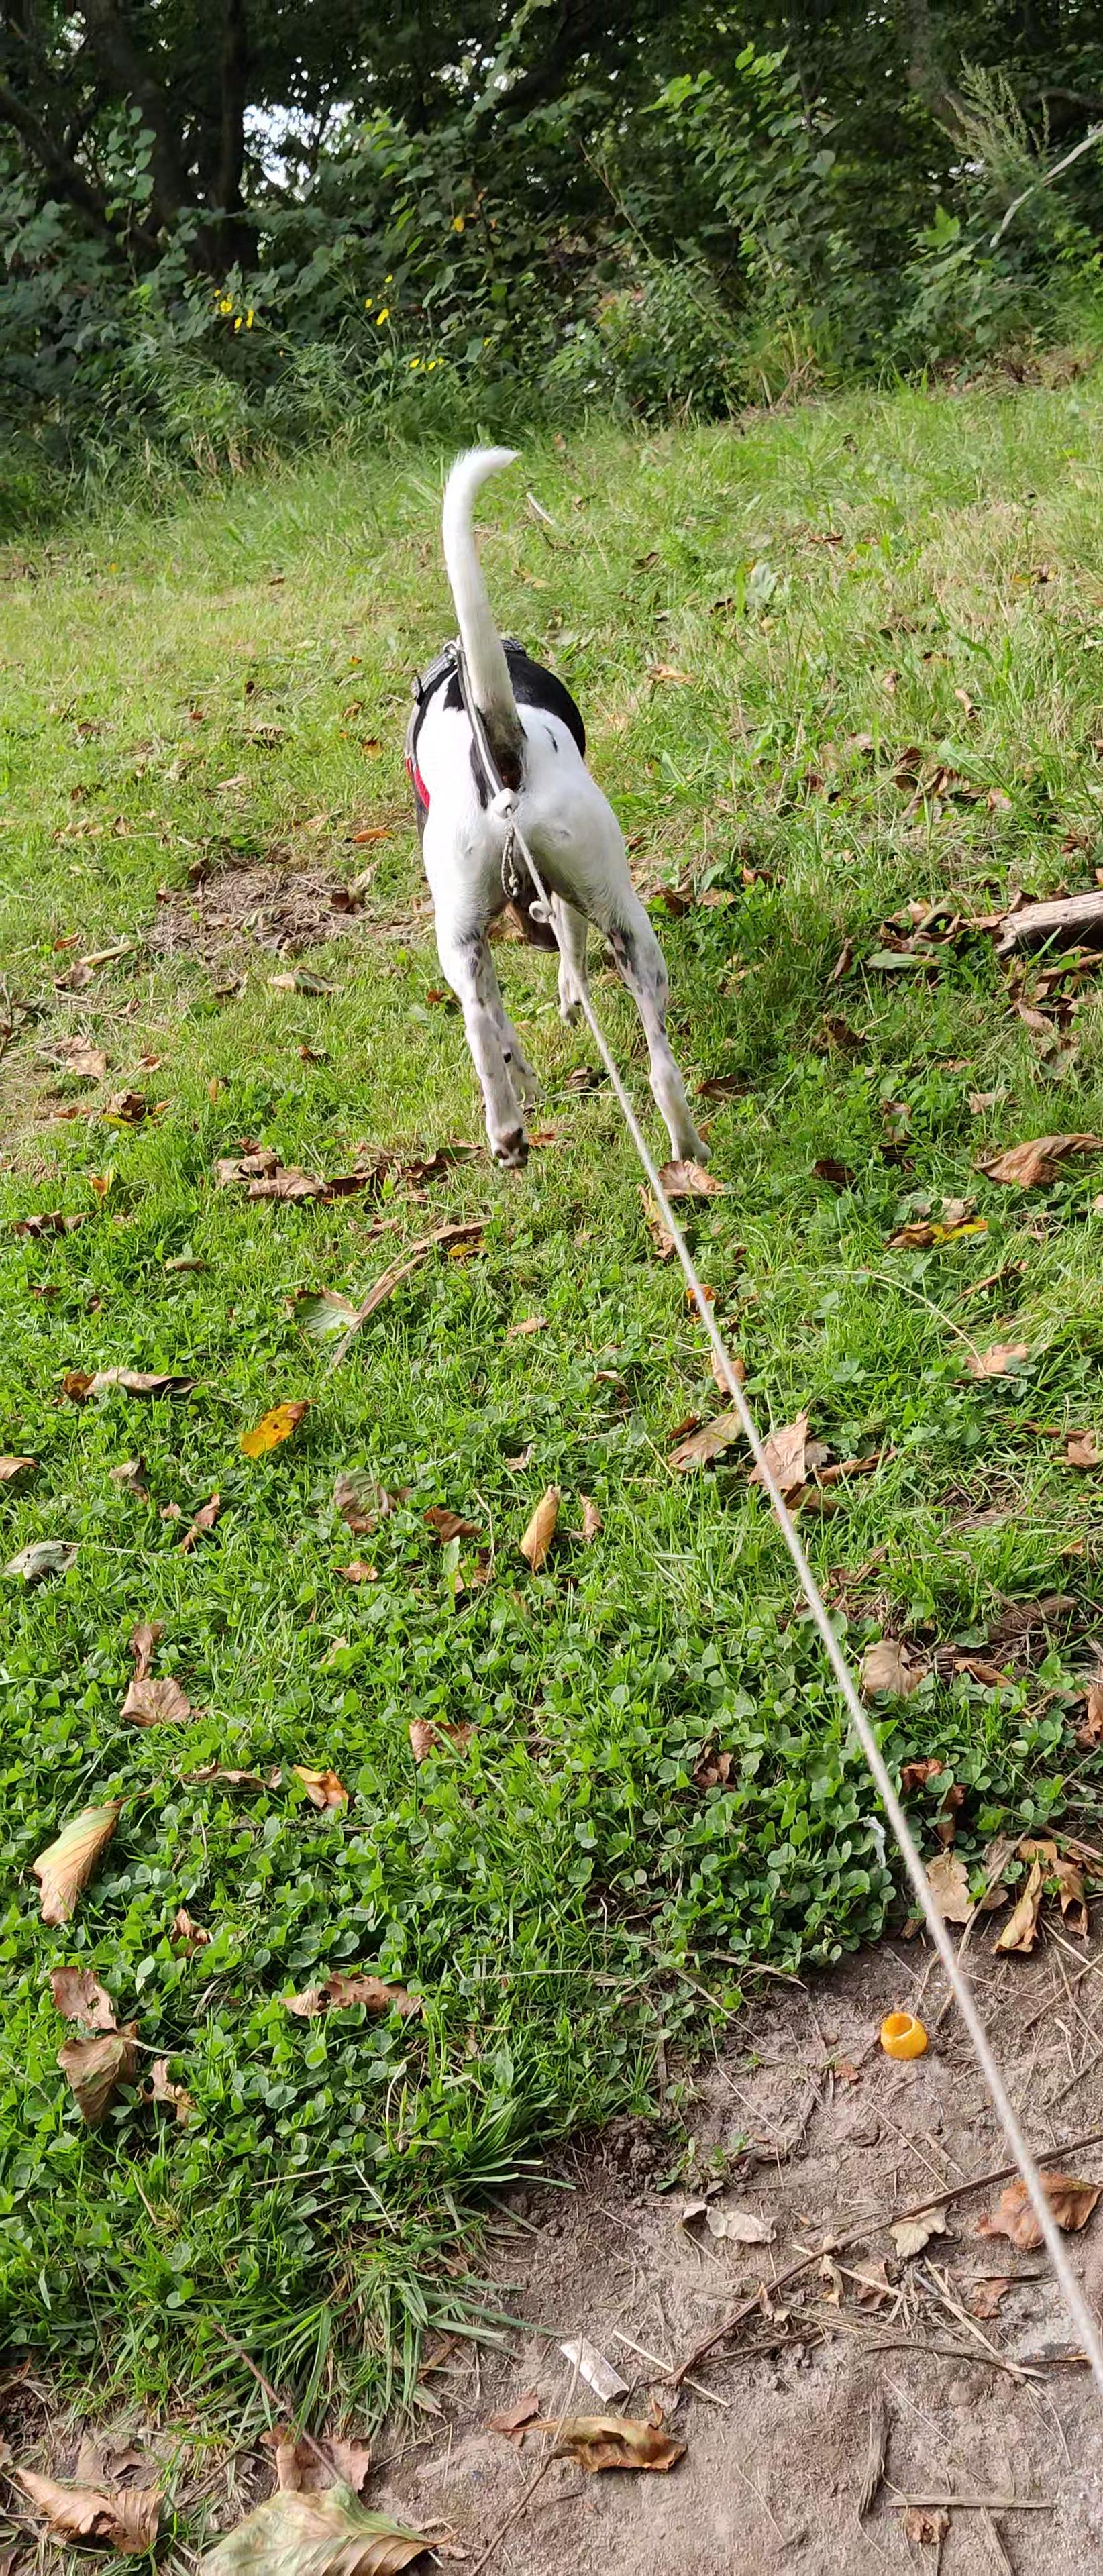Dog: (312, 414, 720, 1180)
